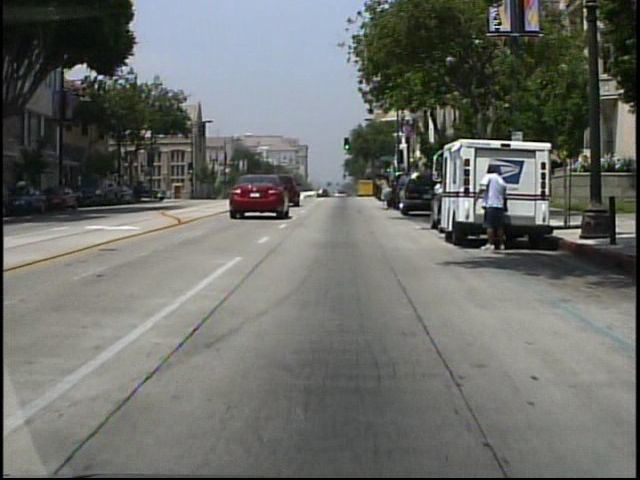person: (473, 165, 512, 252), (375, 173, 393, 212)
